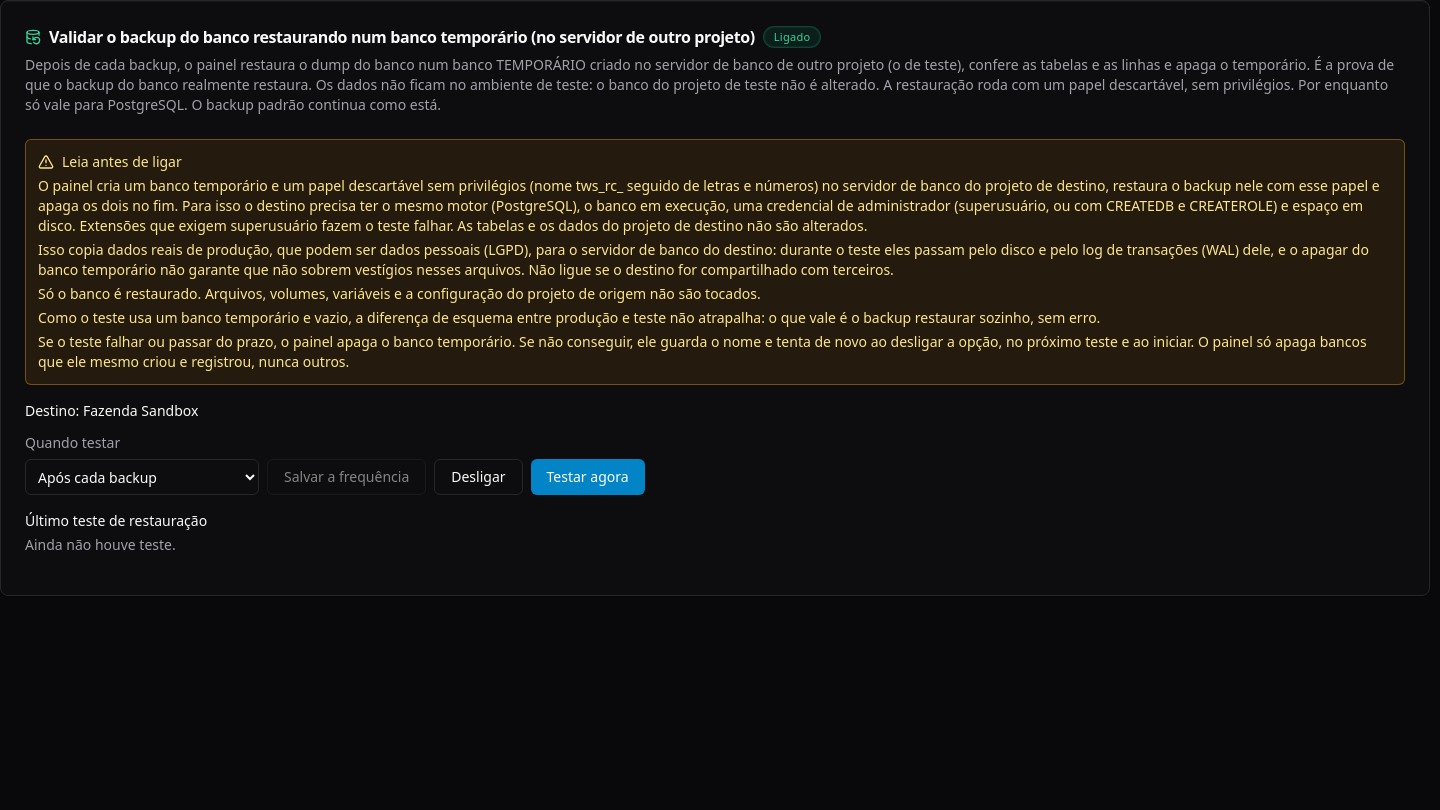
ligado › depois de agir, o foco vai para a região de resultado (que é uma região de status) em vez de se perder
Step 1. Click the button "Desligar" → (478, 477), box [434,459,523,495]
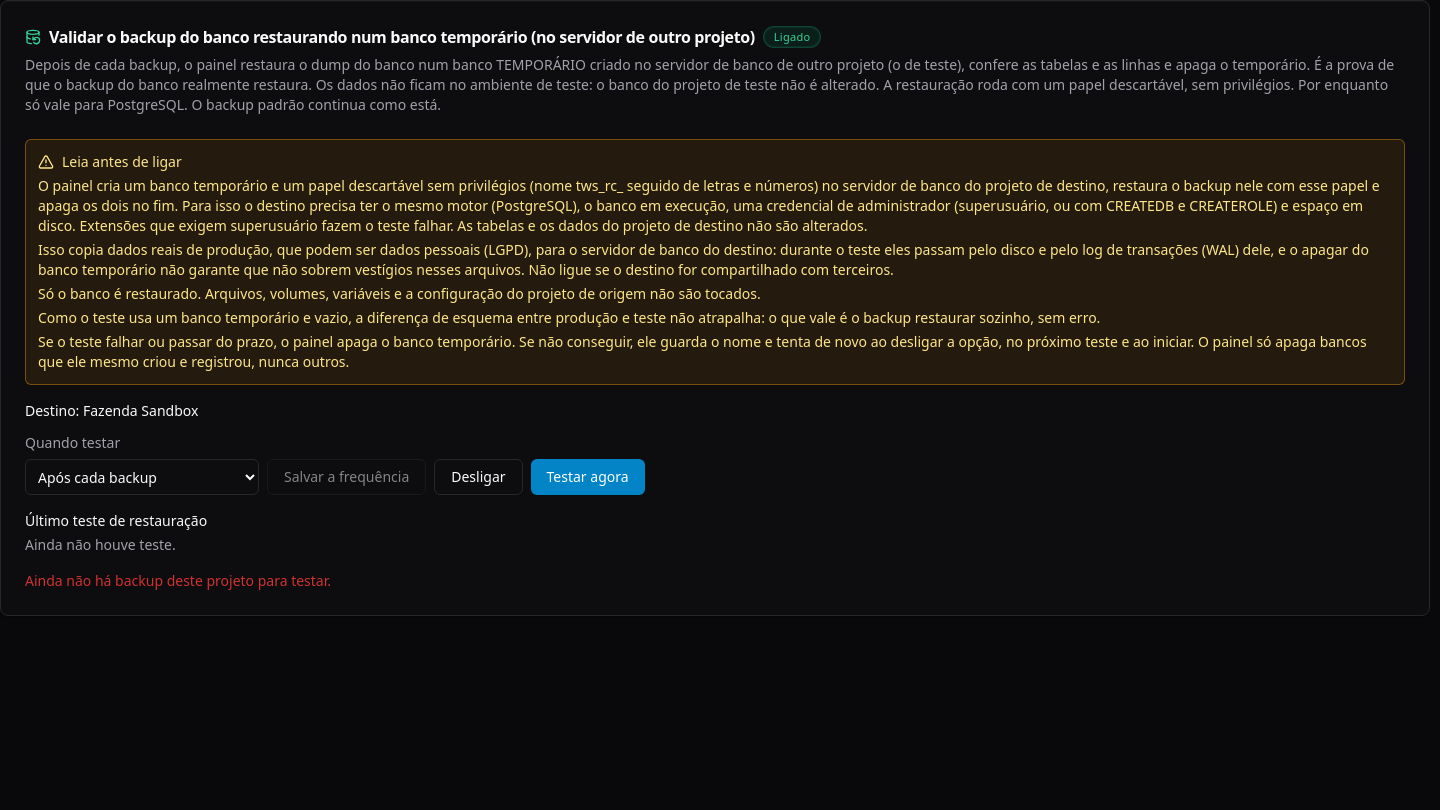
Expected: the message "Ainda não há backup deste projeto para testar." is shown, [25,571,331,590]
